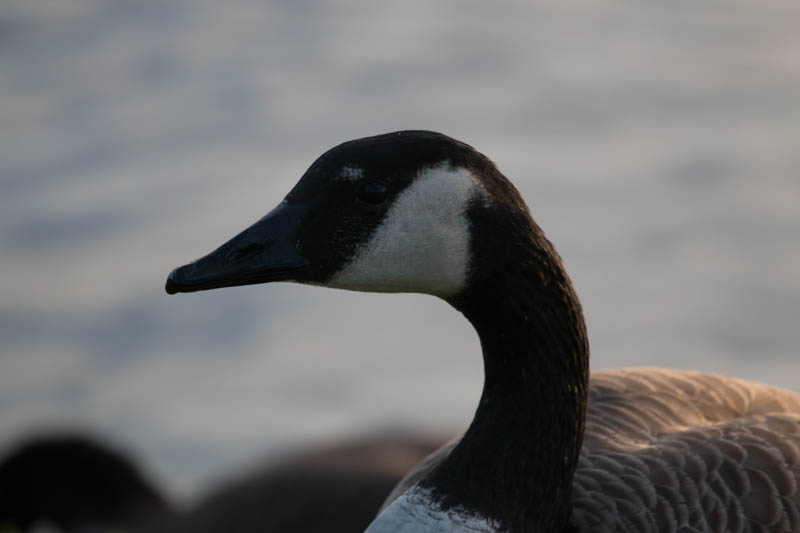goose-head: (165, 128, 520, 303)
